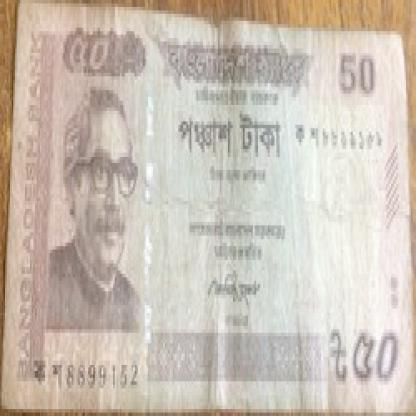Fifty taka: (323, 302, 401, 398), (55, 21, 120, 80)
